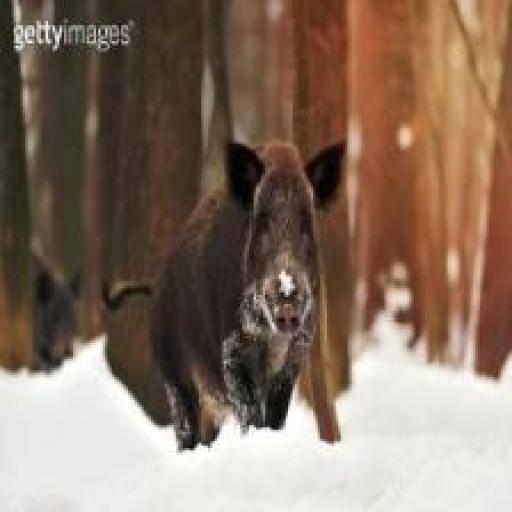Pig: (98, 128, 350, 454)
